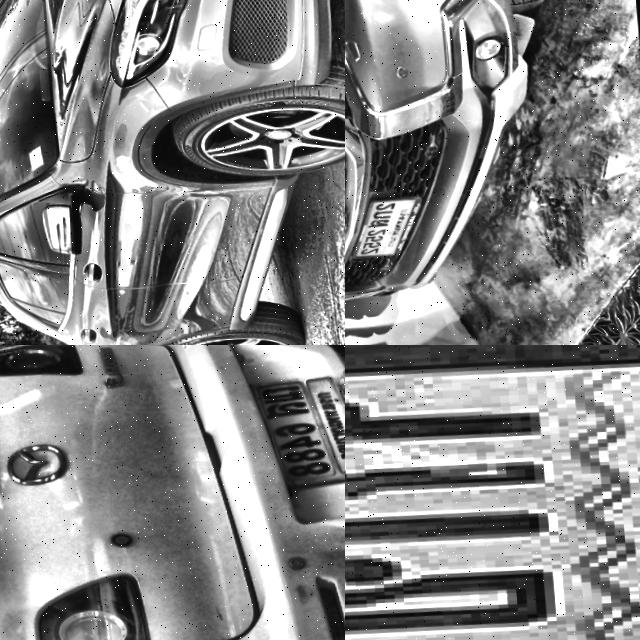license-plate: (345, 345, 640, 640), (241, 367, 345, 491), (345, 189, 429, 261)
